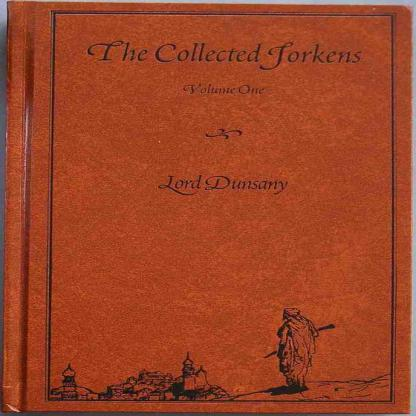book: (0, 0, 416, 413)
